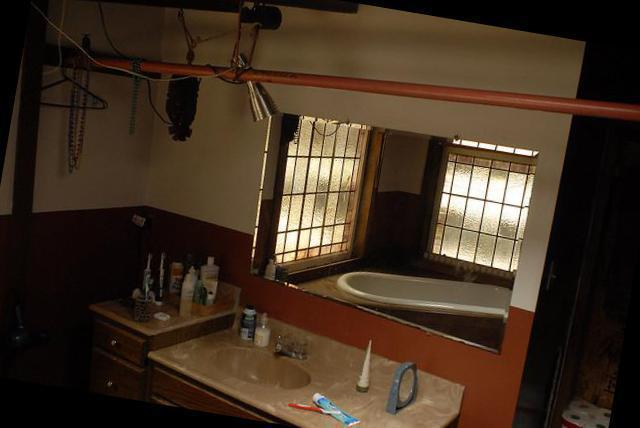Lavamanos: (201, 314, 324, 400)
